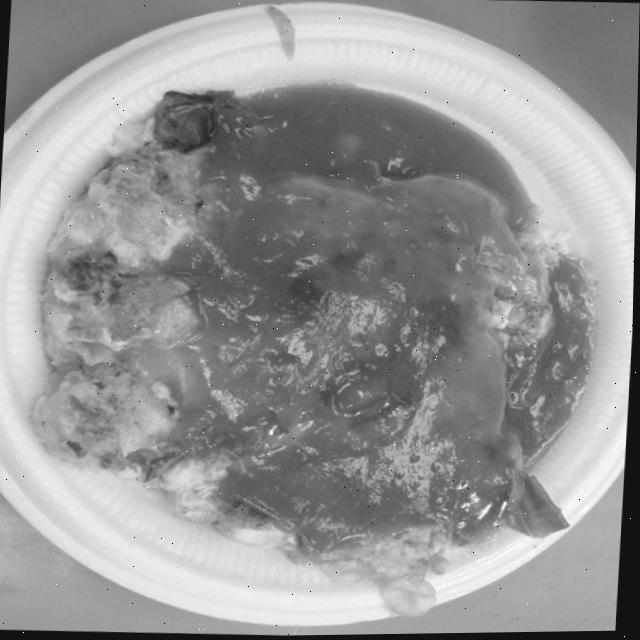熟制海鲜: (7, 11, 624, 618)
